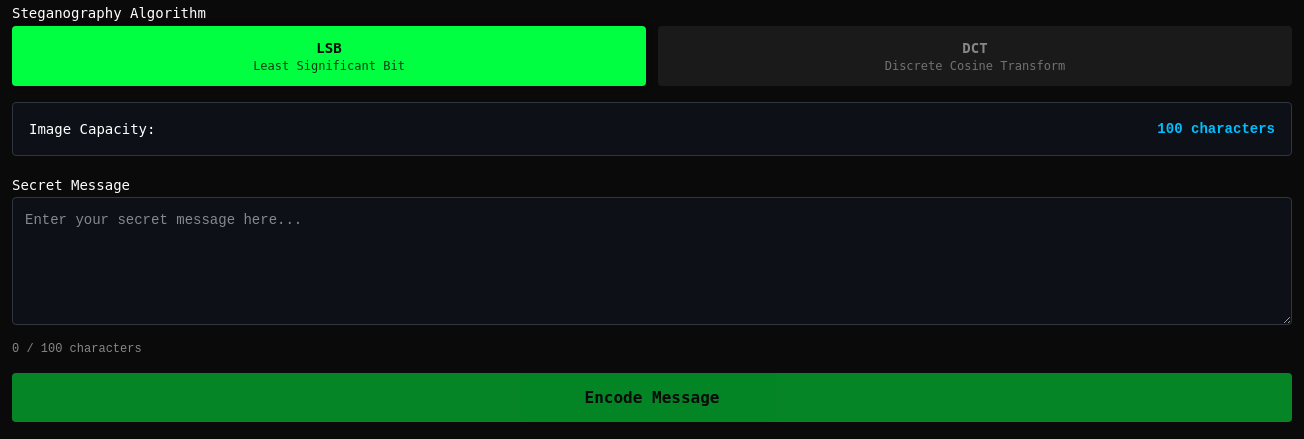
Test: EncodePanel › disables encode button when loading
The image size is (1304, 439).
Expected: the text "100 characters" is shown, [1157,119,1275,139]
Type "Test" into the text box with placeholder "Enter your secret message here...".
click(652, 261); type("Test")  # box [12,197,1292,325]
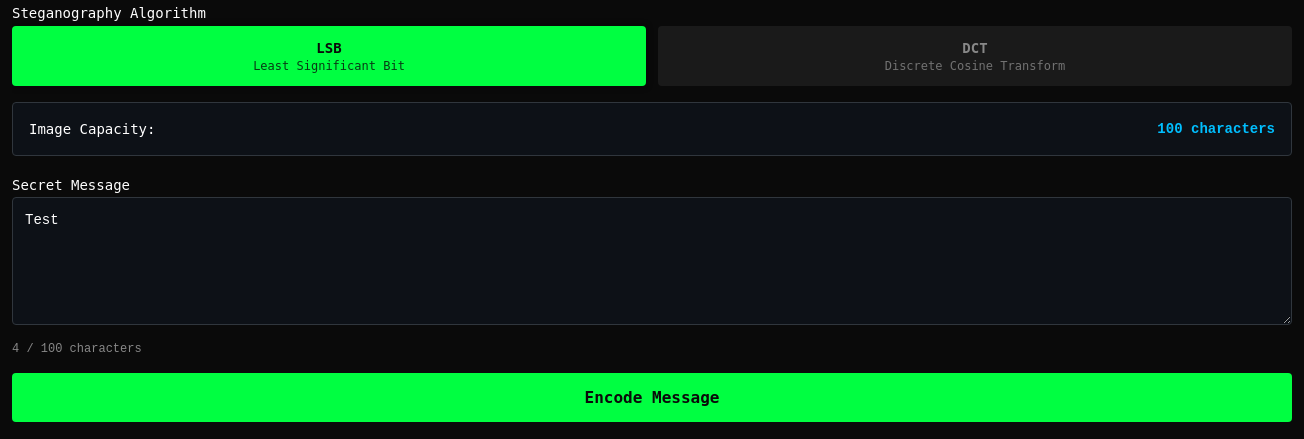
Click the button "Encode Message".
click(652, 398)  # box [12,373,1292,422]
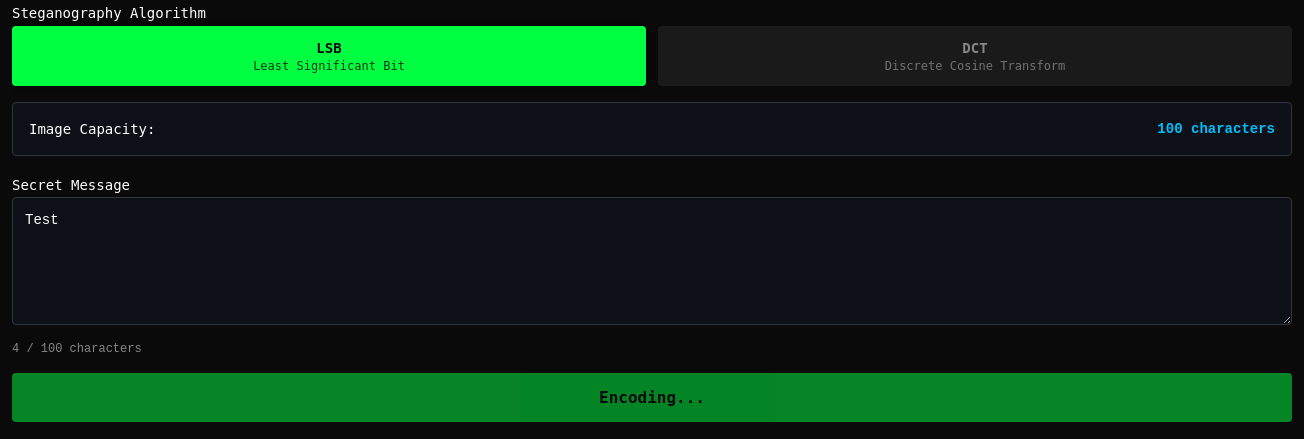
Now the button "Encoding..." is disabled, box [12,373,1292,422]
